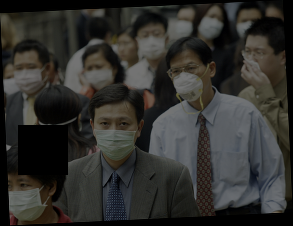with_mask: (92, 112, 139, 162), (9, 175, 49, 221), (170, 61, 211, 100), (13, 59, 47, 94), (136, 27, 167, 62), (83, 60, 116, 91), (198, 10, 226, 41), (234, 14, 262, 40), (174, 13, 194, 38), (4, 72, 19, 96)
without_mask: (242, 42, 281, 80), (117, 38, 137, 61)
